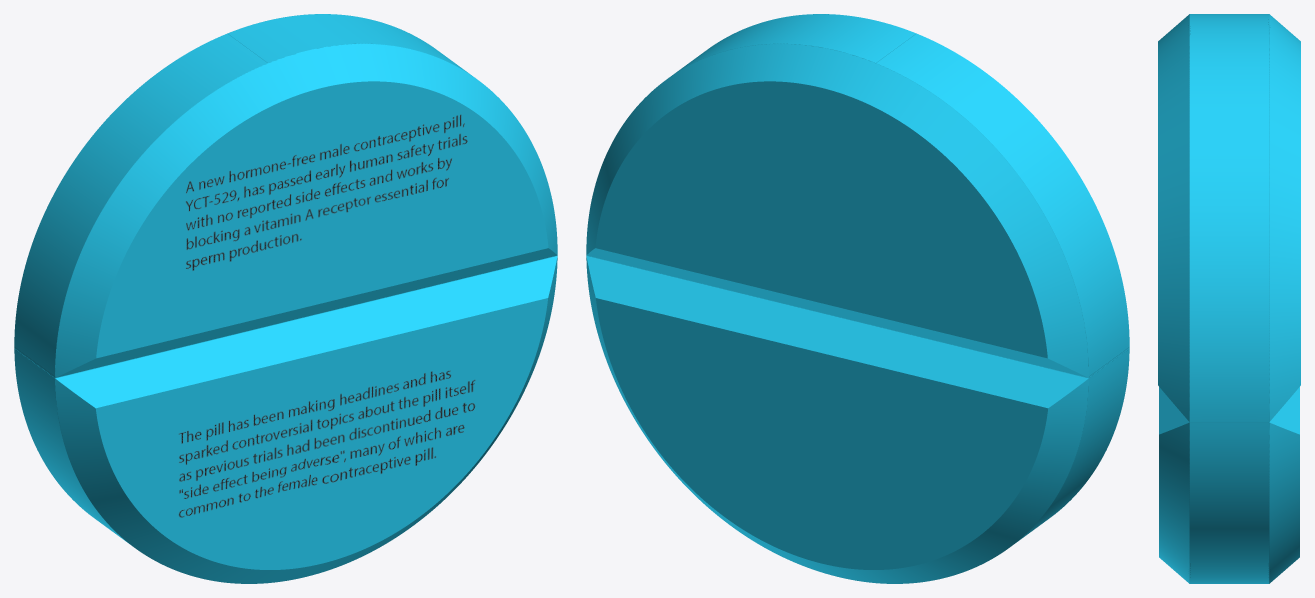
Rendered from bluetext.gltf.
The picture shows the model from 3 angles, left to right: view 1: azimuth 30°, elevation 25°; view 2: azimuth 150°, elevation 25°; view 3: azimuth 270°, elevation 25°; orthographic projection.
Size of the model in its own units: 0.3167 by 0.3167 by 0.0793.
Materials: 2 (2 with a texture image).
